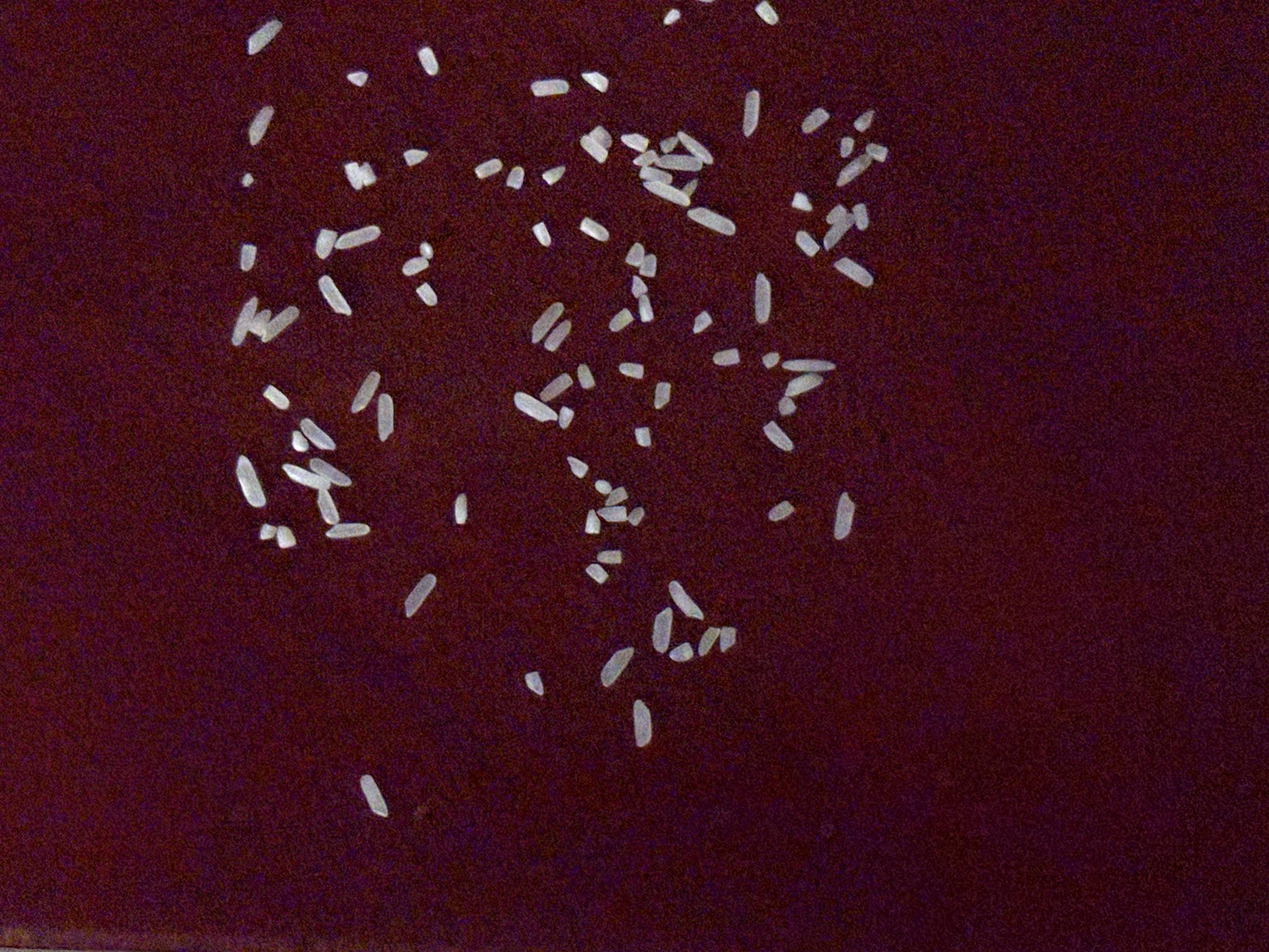Rice-th-y-nh: (235, 455, 266, 508), (687, 205, 736, 236), (403, 574, 437, 618), (747, 273, 776, 324), (261, 305, 299, 343), (530, 302, 564, 343), (643, 179, 691, 208), (318, 276, 352, 316), (600, 647, 634, 687), (282, 464, 332, 491), (669, 581, 703, 620), (350, 371, 381, 413), (309, 457, 351, 488), (246, 19, 282, 55), (231, 298, 258, 346), (677, 131, 715, 165), (514, 392, 557, 422), (360, 774, 389, 818), (300, 417, 336, 451), (836, 154, 872, 188), (834, 258, 874, 287), (336, 225, 381, 250), (783, 356, 835, 377), (833, 493, 856, 540), (248, 106, 274, 145), (784, 372, 823, 398), (652, 607, 674, 653), (632, 700, 653, 747), (763, 421, 794, 452), (540, 373, 573, 402), (742, 89, 762, 136), (543, 320, 572, 352), (823, 217, 850, 250), (658, 153, 702, 173), (376, 394, 395, 440), (316, 489, 340, 525), (325, 521, 369, 540), (580, 135, 608, 163), (530, 78, 569, 97), (801, 108, 829, 134), (580, 217, 609, 242), (639, 165, 673, 186), (697, 626, 720, 657), (315, 228, 337, 259), (795, 230, 820, 257), (263, 385, 290, 410), (249, 309, 272, 338), (418, 47, 439, 76), (608, 308, 633, 332), (587, 126, 612, 149), (582, 71, 609, 92), (402, 256, 430, 276), (475, 159, 503, 179), (621, 133, 649, 153), (344, 162, 364, 190), (755, 1, 778, 25), (598, 505, 628, 523), (851, 203, 870, 231), (524, 671, 545, 696), (768, 501, 794, 521), (416, 283, 438, 306), (854, 109, 876, 132), (604, 486, 628, 507), (239, 243, 257, 271), (712, 348, 740, 366), (542, 165, 567, 185), (576, 364, 595, 390), (637, 294, 654, 323), (632, 149, 659, 167), (653, 382, 671, 409), (276, 526, 297, 549), (669, 642, 693, 662), (625, 243, 645, 267), (533, 222, 552, 247), (618, 362, 644, 380), (719, 626, 737, 652), (453, 493, 468, 524), (586, 563, 608, 584), (567, 456, 588, 478), (865, 142, 888, 162), (639, 253, 657, 278), (403, 148, 428, 166), (692, 311, 712, 333), (506, 166, 525, 189), (630, 275, 649, 298), (358, 162, 376, 186), (791, 192, 812, 212), (825, 205, 846, 225), (597, 549, 623, 565), (778, 396, 797, 417), (291, 430, 309, 452), (634, 426, 652, 448), (585, 509, 600, 535), (558, 406, 574, 430), (660, 135, 680, 154), (627, 507, 645, 527), (681, 178, 699, 198), (347, 70, 368, 87), (839, 136, 855, 158), (259, 523, 278, 540), (663, 9, 681, 26), (762, 352, 780, 369), (595, 479, 613, 495), (419, 242, 433, 260)
